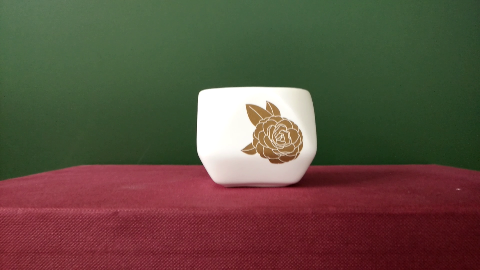flower: (232, 96, 309, 164)
